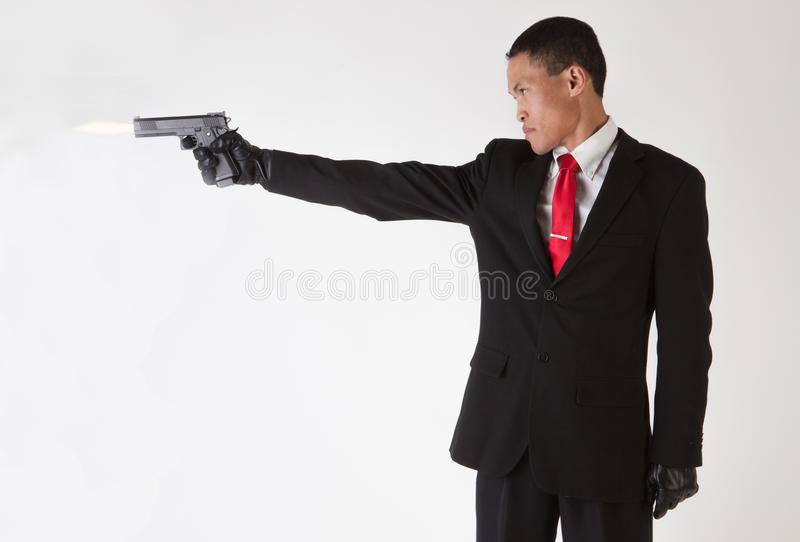criminal: (128, 13, 716, 542)
weapon: (128, 108, 254, 190)
